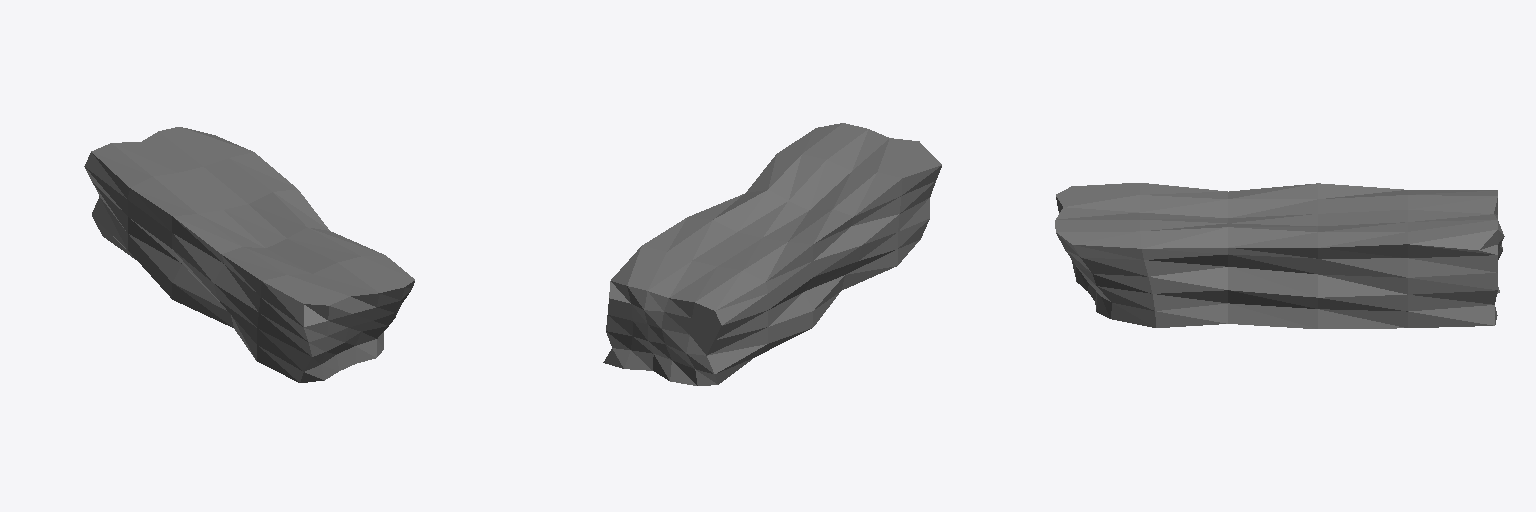
File: BenchRockTexture.obj
3 views of the same model, side by side, from view 1: azimuth 30°, elevation 25°; view 2: azimuth 150°, elevation 25°; view 3: azimuth 270°, elevation 25° (orthographic).
Visible parts, largest first — view 1: pCube2_pCube2; view 2: pCube2_pCube2; view 3: pCube2_pCube2.
Part boxes in pixels (bbox=[...]): pCube2_pCube2: bbox=[84, 127, 414, 382]; pCube2_pCube2: bbox=[603, 123, 941, 385]; pCube2_pCube2: bbox=[1055, 183, 1504, 328].
Size of the model in its own units: 2.5 by 1.47 by 7.13.